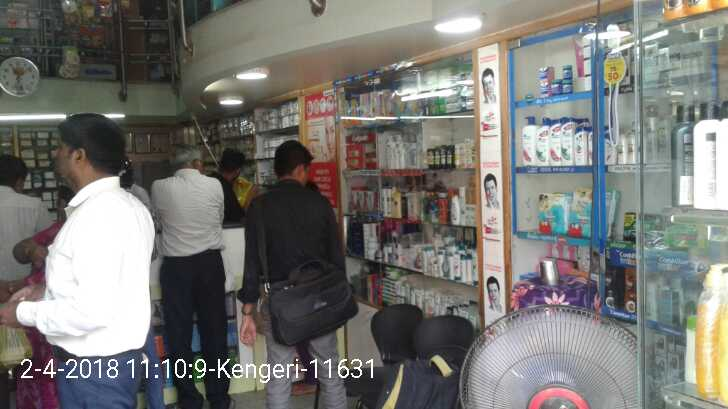vicks: (553, 63, 574, 96), (539, 65, 553, 96)
